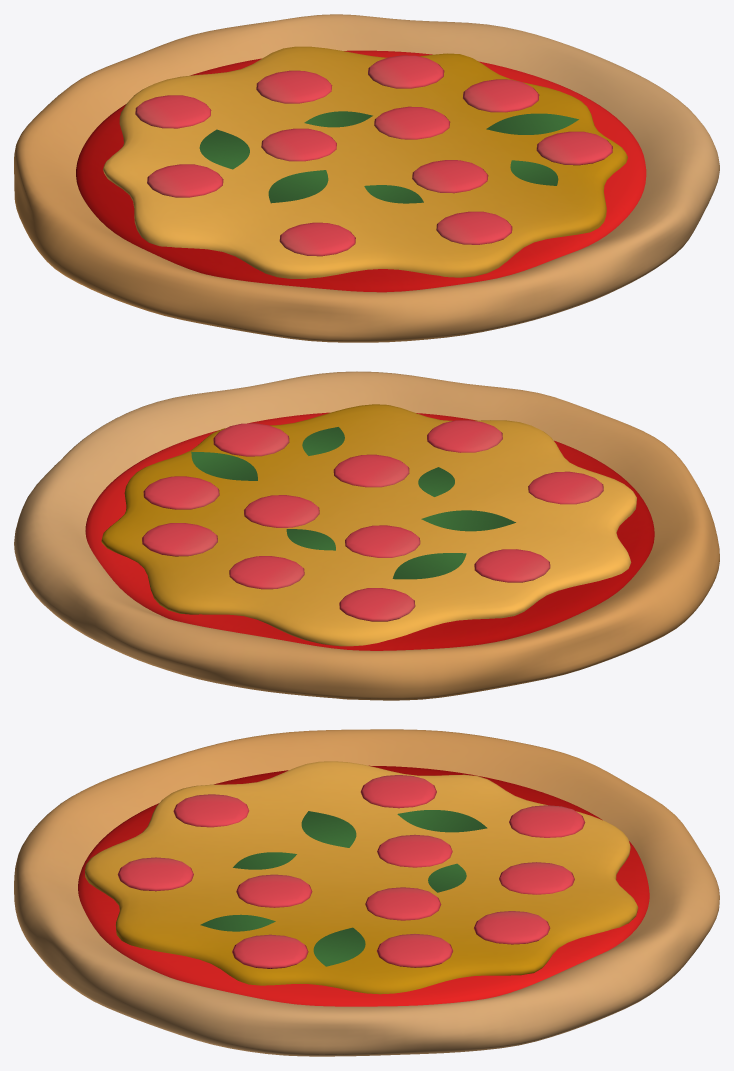
The model's file is PizzaPep.glb.
3 views of the same model, one above another, from view 1: azimuth 30°, elevation 25°; view 2: azimuth 150°, elevation 25°; view 3: azimuth 270°, elevation 25° (orthographic).
Visible parts, largest first — view 1: PizzaPep; view 2: PizzaPep; view 3: PizzaPep.
Part boxes in pixels (x1,y1,x2,y2): PizzaPep: (14,14,719,342); PizzaPep: (14,371,719,700); PizzaPep: (14,729,719,1056).
Bounding box in the file's own units: 0.4111 × 0.0362 × 0.4075.
1 material, 1 textured.
